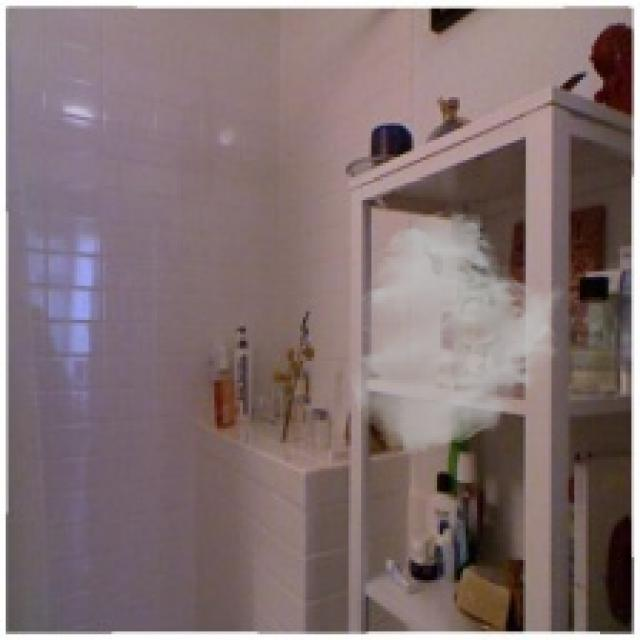smoke: (348, 209, 566, 457)
